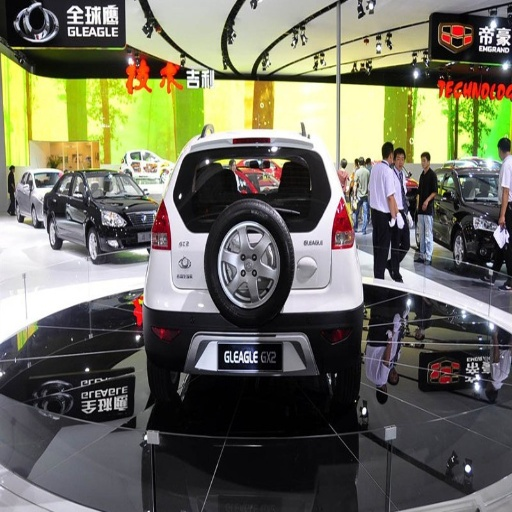trunk: (235, 154, 334, 254), (153, 204, 205, 291)
